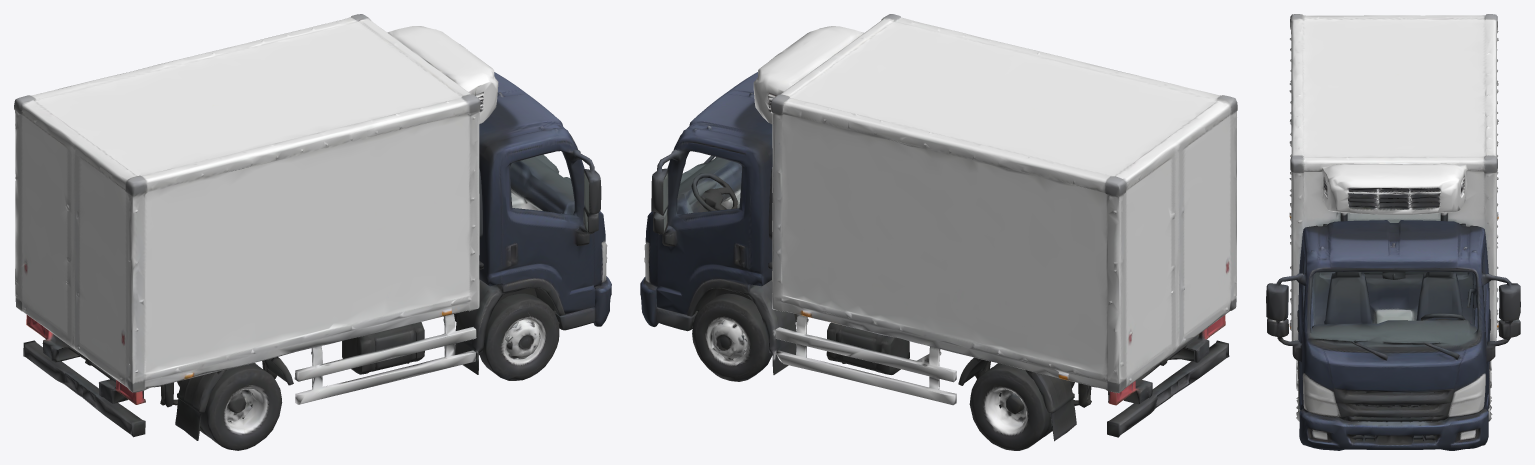
The model's file is distribution-truck.glb.
The picture shows the model from 3 angles, left to right: view 1: azimuth 30°, elevation 25°; view 2: azimuth 150°, elevation 25°; view 3: azimuth 270°, elevation 25°; orthographic projection. The views are drawn at different scales.
Visible parts, largest first — view 1: tripo_node_f1779989-8e0f-42f1-ac51-9399ae22d87a; view 2: tripo_node_f1779989-8e0f-42f1-ac51-9399ae22d87a; view 3: tripo_node_f1779989-8e0f-42f1-ac51-9399ae22d87a.
Part boxes in pixels (box(x1,y1,x2,y2)): tripo_node_f1779989-8e0f-42f1-ac51-9399ae22d87a: box(14, 14, 611, 450); tripo_node_f1779989-8e0f-42f1-ac51-9399ae22d87a: box(640, 14, 1237, 450); tripo_node_f1779989-8e0f-42f1-ac51-9399ae22d87a: box(1266, 14, 1520, 450).
Size of the model in its own units: 1 by 0.5723 by 0.5057.
1 material, 1 textured.
